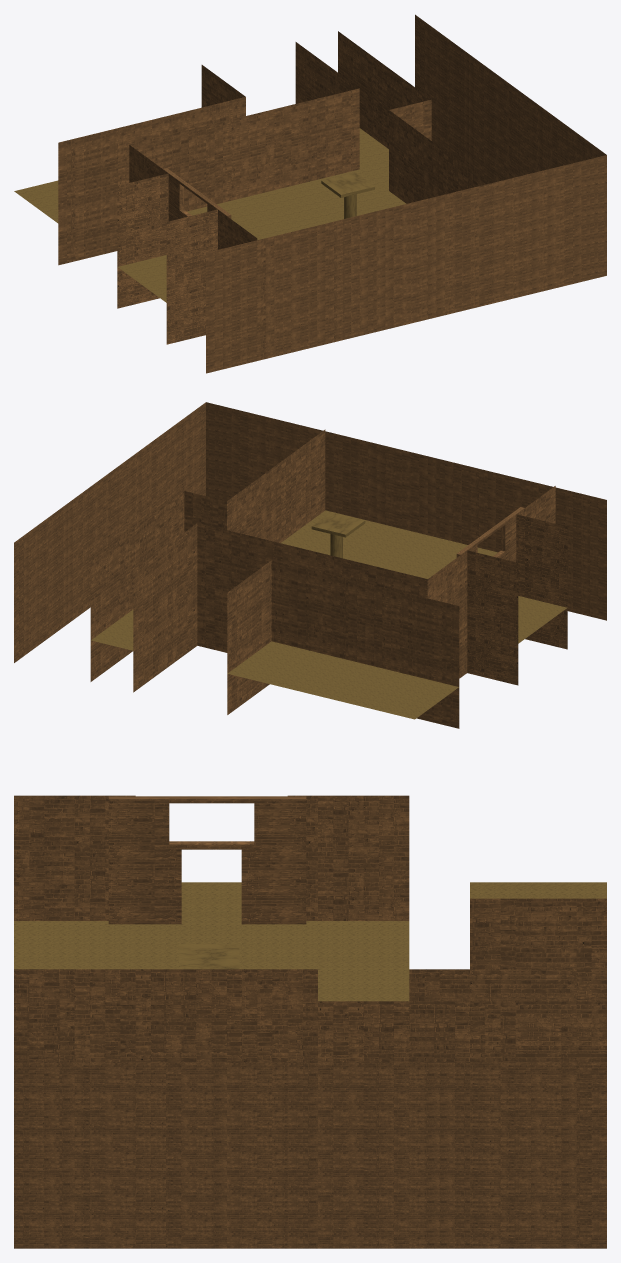
The picture shows the model from 3 angles, top to bottom: view 1: azimuth 30°, elevation 25°; view 2: azimuth 150°, elevation 25°; view 3: azimuth 270°, elevation 25°; orthographic projection. The views are drawn at different scales.
Parts seen in each view (by area): view 1: map; view 2: map; view 3: map.
Part boxes in pixels (x1=…): map: x1=14, y1=14, x2=606, y2=373; map: x1=14, y1=402, x2=606, y2=728; map: x1=14, y1=795, x2=606, y2=1248.
Size of the model in its own units: 47.36 by 13.86 by 39.29.
4 materials, 4 textured.
